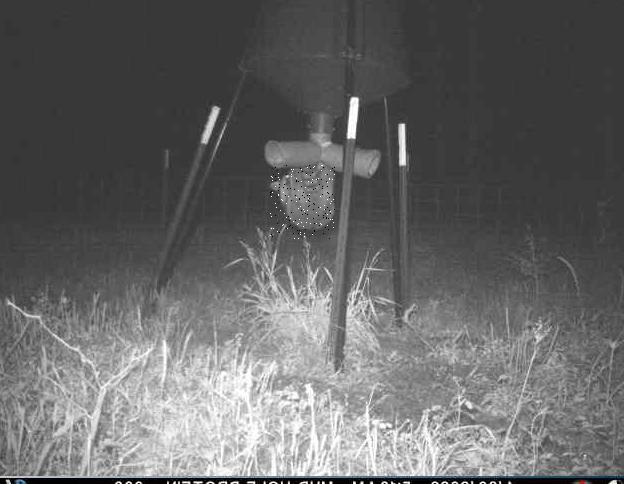Raccoon: (270, 165, 335, 240)
